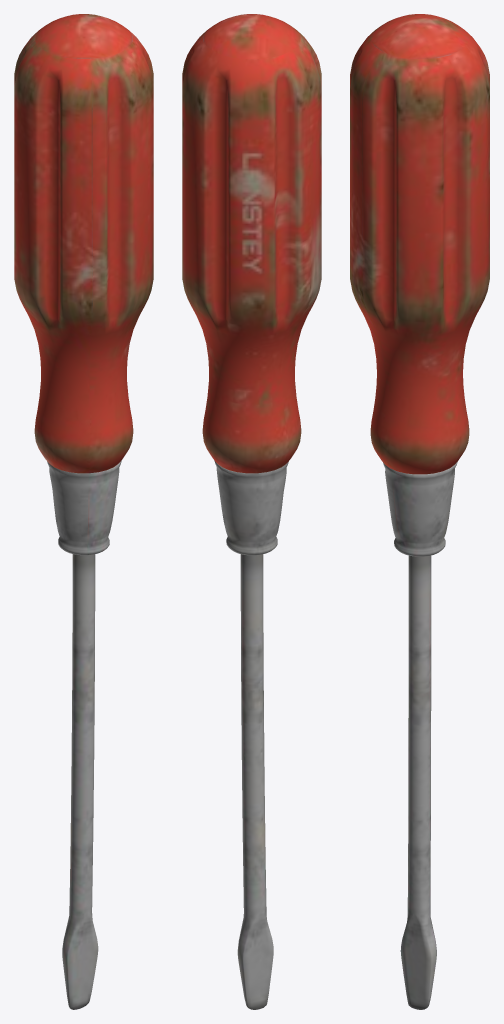
Rendered from chave_fenda3.glb.
The picture shows the model from 3 angles, left to right: view 1: azimuth 30°, elevation 25°; view 2: azimuth 210°, elevation 25°; view 3: azimuth 330°, elevation 25°; orthographic projection.
Visible parts, largest first — view 1: screwdriver_3_screwdriver_3_0; view 2: screwdriver_3_screwdriver_3_0; view 3: screwdriver_3_screwdriver_3_0.
Part boxes in pixels (x1=…): screwdriver_3_screwdriver_3_0: x1=14, y1=14, x2=153, y2=1009; screwdriver_3_screwdriver_3_0: x1=182, y1=14, x2=321, y2=1009; screwdriver_3_screwdriver_3_0: x1=350, y1=14, x2=489, y2=1009.
Bounding box in the file's own units: 0.0271 × 0.209 × 0.0267.
1 material, 1 textured.
